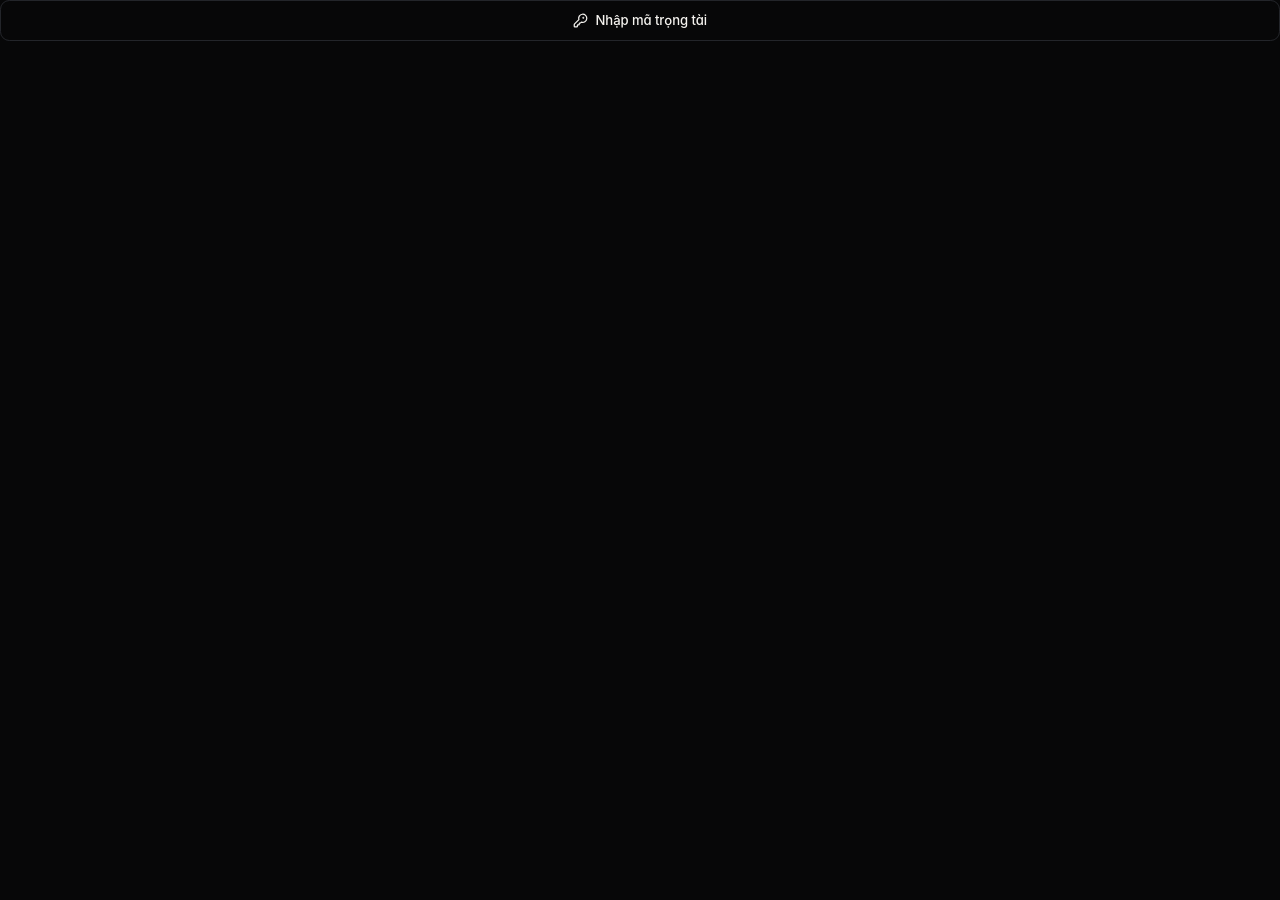
Test: RefereeJoinByPin — logged in › blocks submit when offline without calling the server
Click the button "Nhập mã trọng tài": [640, 21] box [0,0,1279,41]
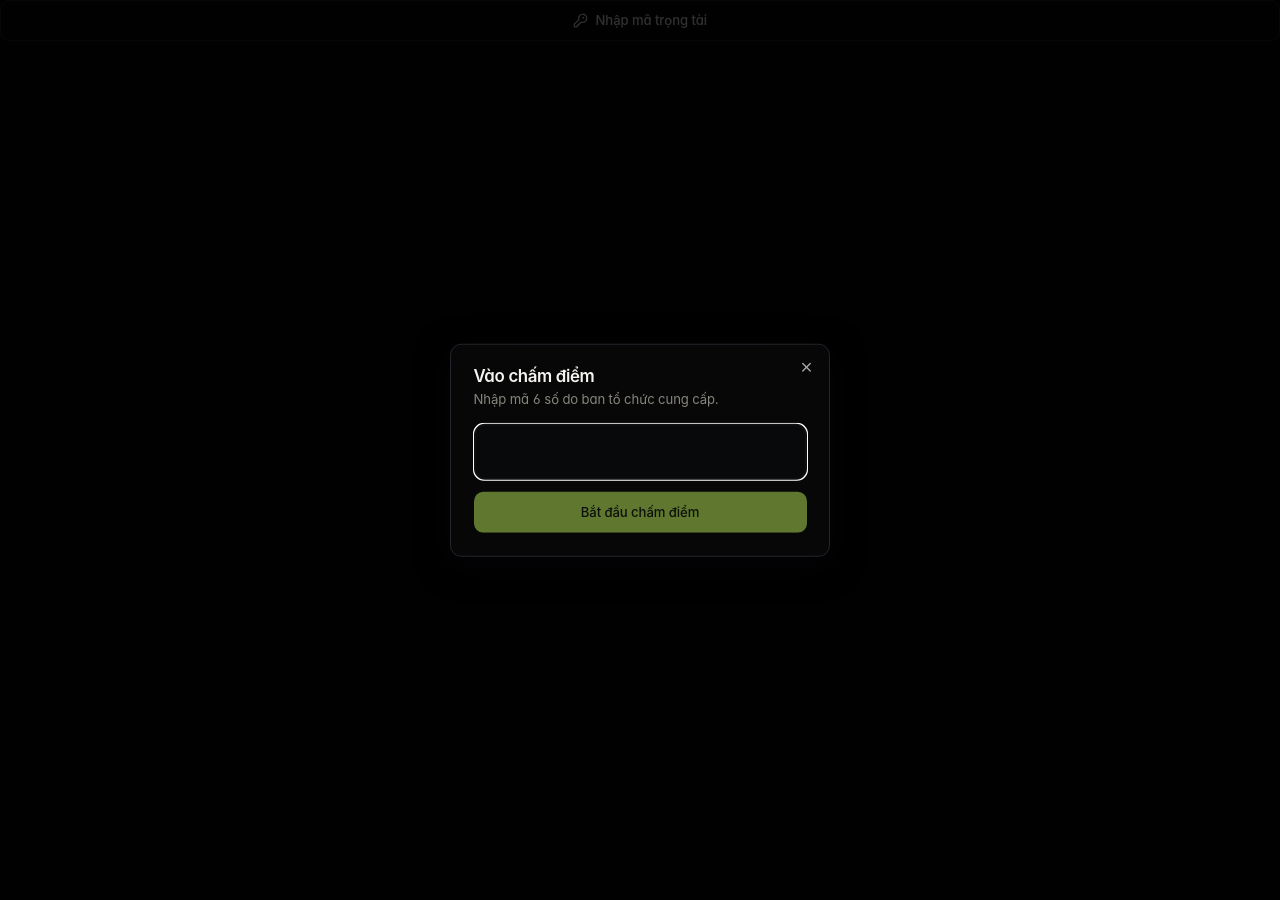
In the field named "Mã PIN trọng tài": [640, 452] box [474,424,806,480], type "123456"
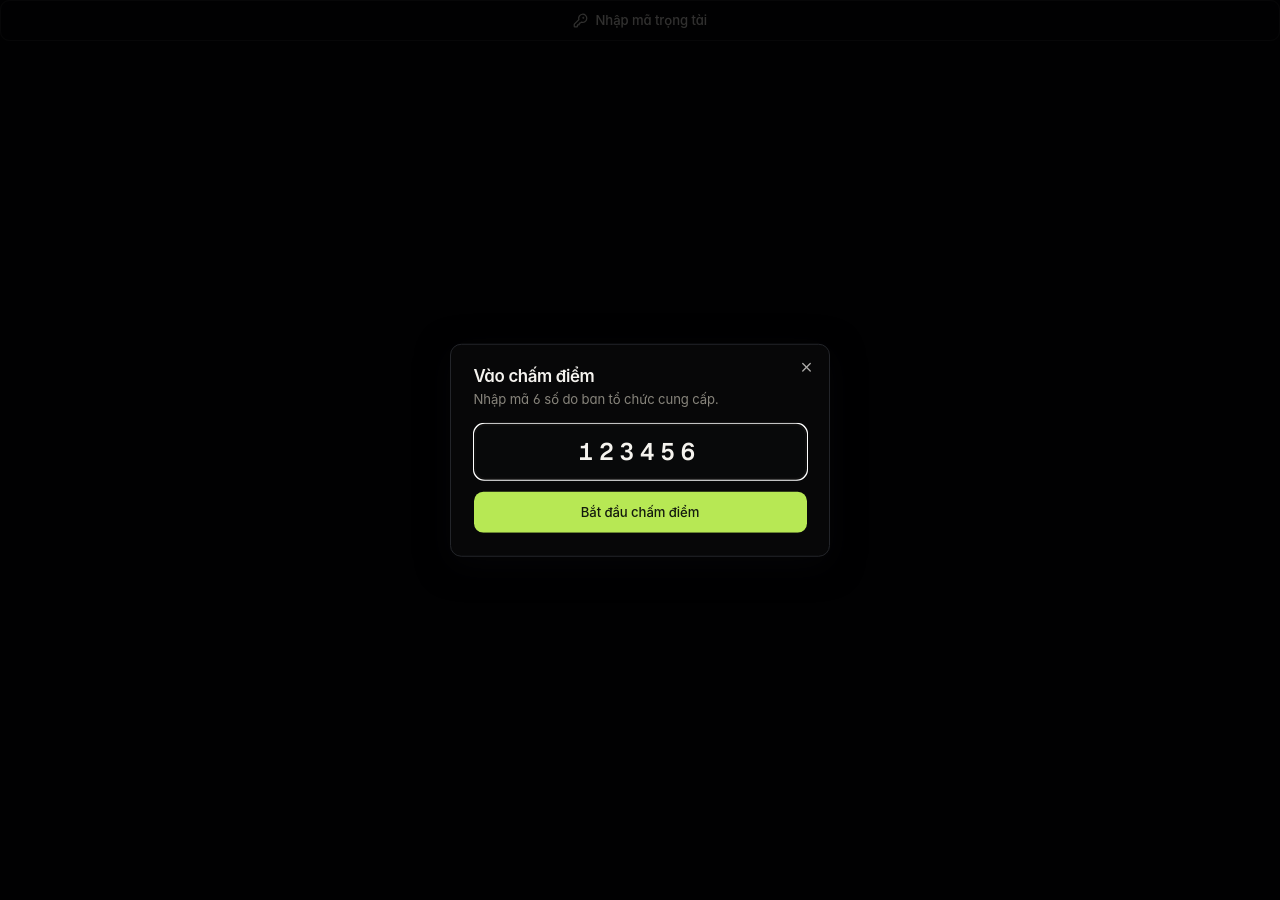
Click the button "Bắt đầu chấm điểm": [640, 512] box [474,492,806,533]
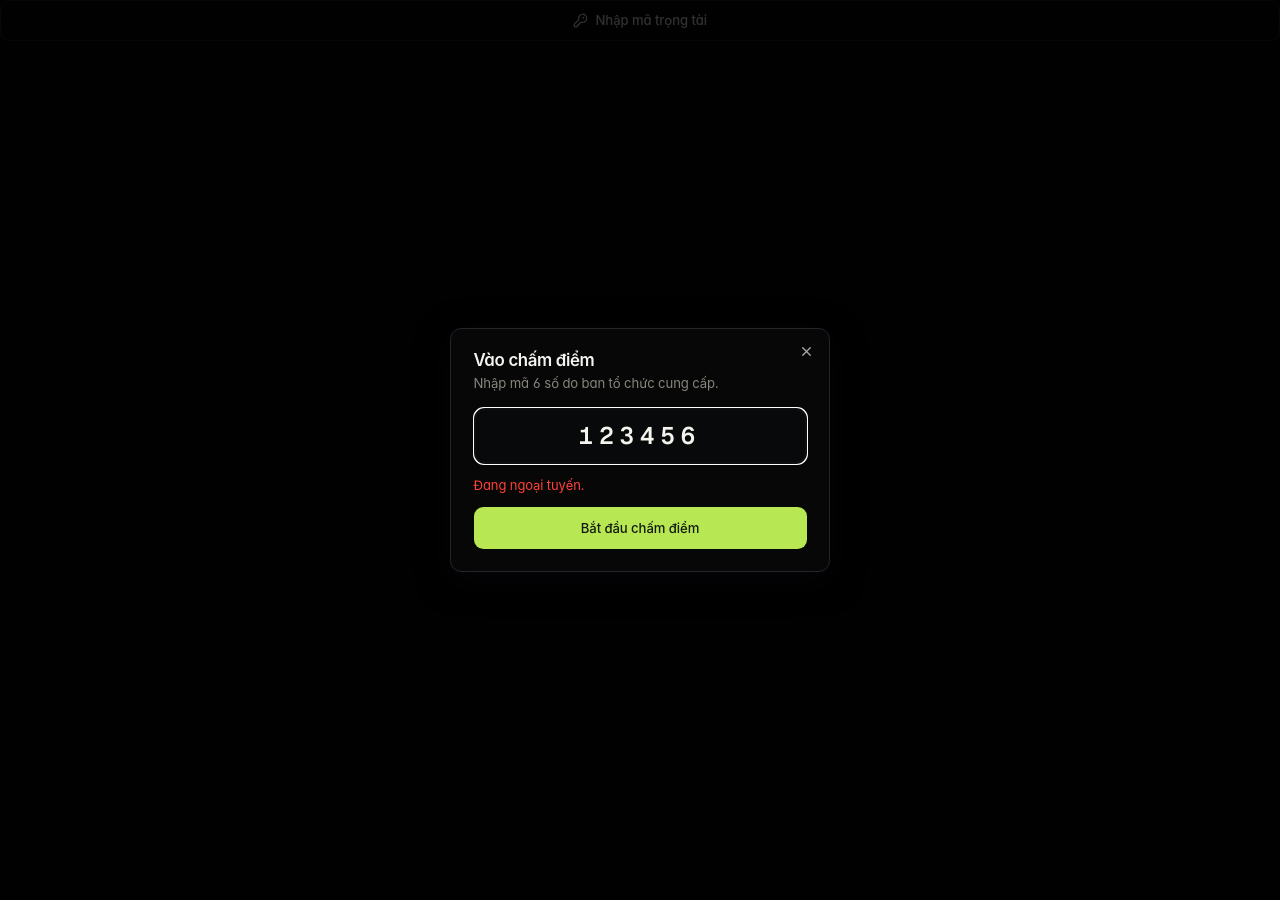
Expected: the message reads "Đang ngoại tuyến.", [474,477,584,493]
